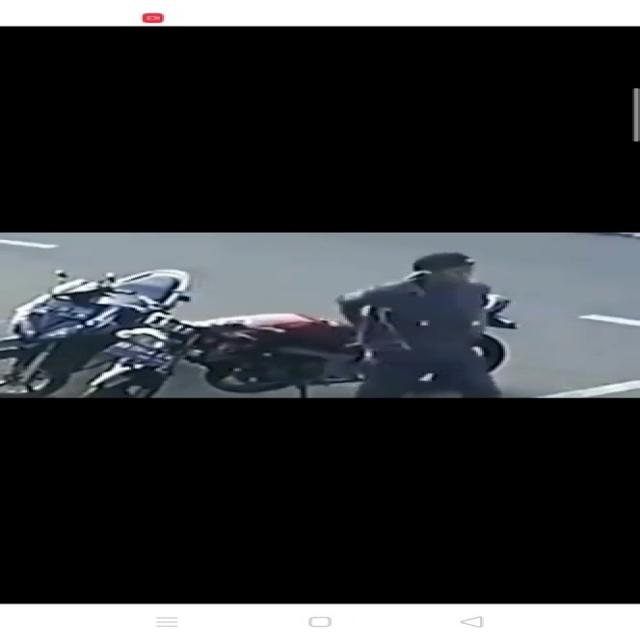pencurian: (106, 251, 515, 398)
